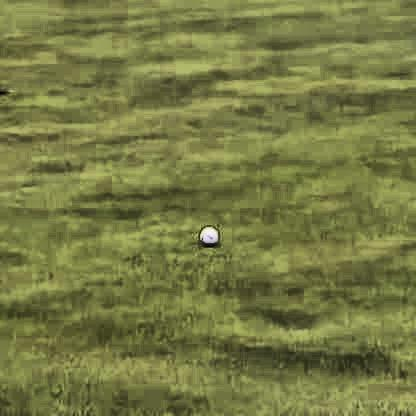golfball: (197, 225, 216, 244)
